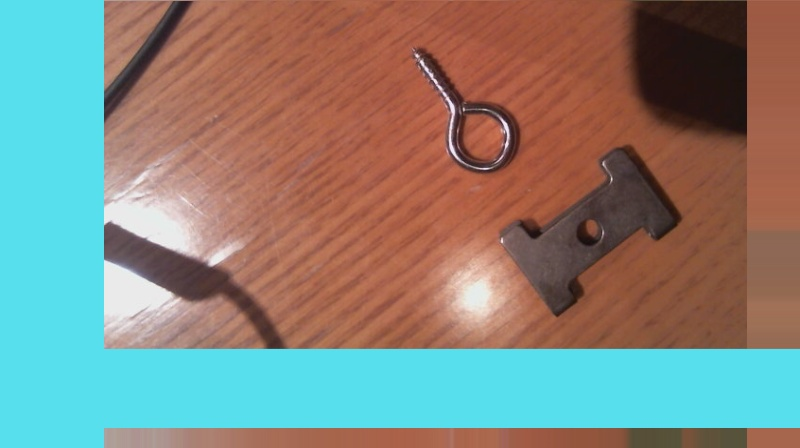O001: (405, 39, 519, 172)
O002: (492, 145, 684, 318)
